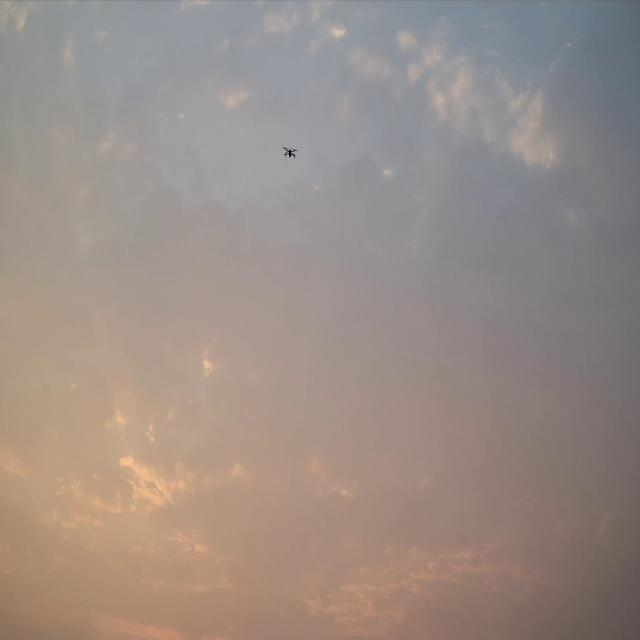UAV: (282, 144, 298, 160)
